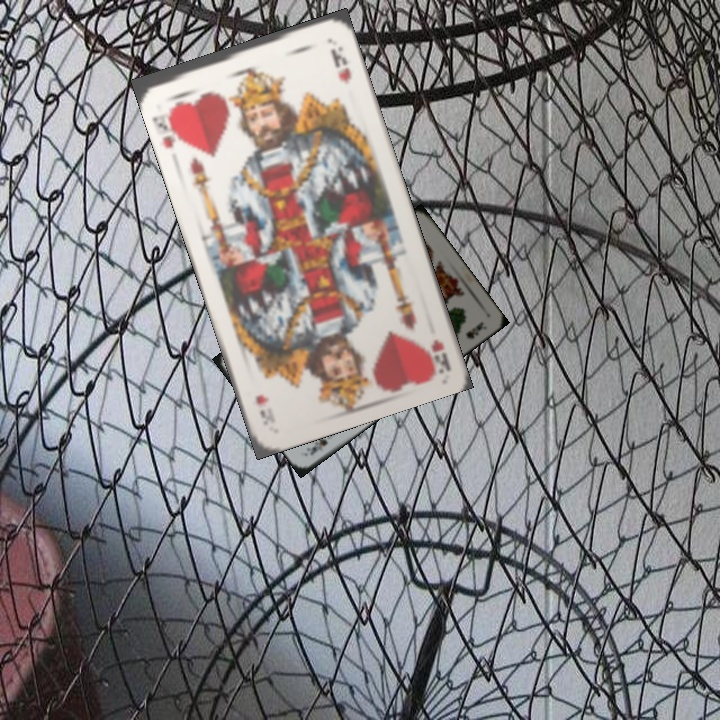HK: (150, 103, 187, 151), (427, 335, 453, 369)
SK: (303, 434, 330, 458)
